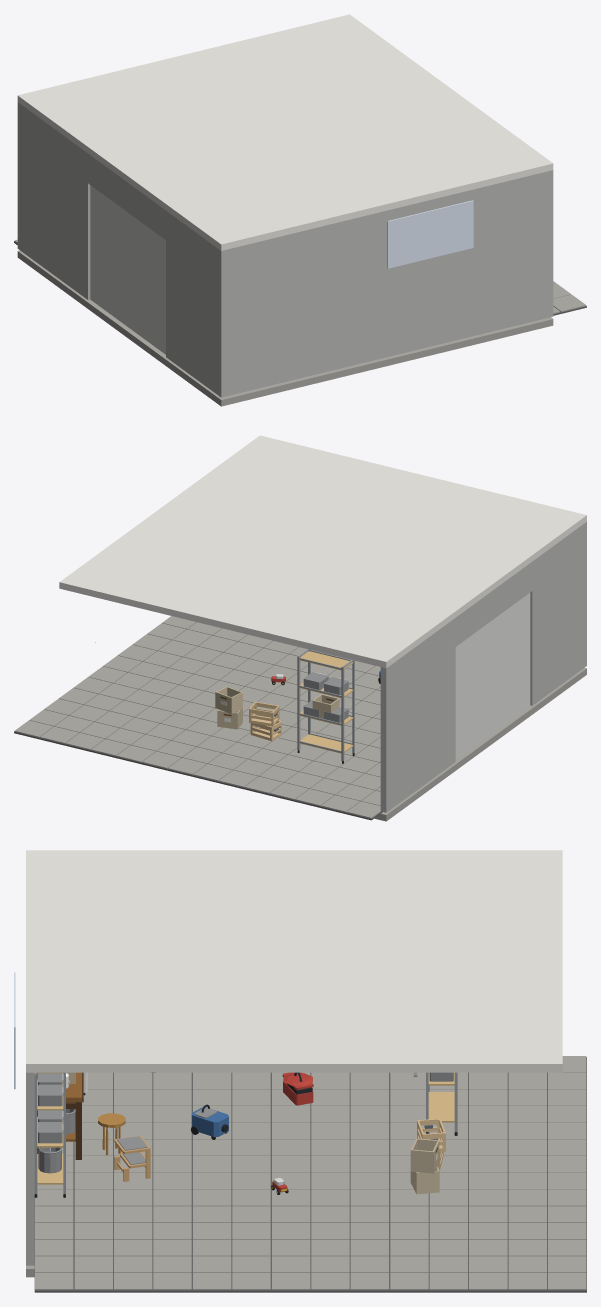
Rendered from SM_LPI_Room_Garage.fbx.
3 views of the same model, one above another, from view 1: azimuth 30°, elevation 25°; view 2: azimuth 150°, elevation 25°; view 3: azimuth 270°, elevation 25° (orthographic). The views are drawn at different scales.
Visible parts, largest first — view 1: SM_LPI_Room_Garage, SM_LPI_Room_GarageDoor, SM_LPI_Room_GarageGlass, SM_LPI_Struct_Floor_08.043; view 2: SM_LPI_Room_Garage, SM_LPI_Room_GarageDoor, SM_LPI_Util_ShelfRack_01.002, SM_LPI_Struct_Floor_08.028, SM_LPI_Struct_Floor_08.035, SM_LPI_Struct_Floor_08.014, SM_LPI_Struct_Floor_08.021, SM_LPI_Struct_Floor_08.042, SM_LPI_Struct_Floor_08.049, SM_LPI_Struct_Floor_08.039, SM_LPI_Struct_Floor_08.041, SM_LPI_Struct_Floor_08.045 (+24 smaller); view 3: SM_LPI_Room_Garage, SM_LPI_Util_ShelfRack_01.001, SM_LPI_Struct_Floor_08.043, SM_LPI_Struct_Floor_08.044, SM_LPI_Struct_Floor_08.045, SM_LPI_Struct_Floor_08.046, SM_LPI_Struct_Floor_08.047, SM_LPI_Struct_Floor_08.048, SM_LPI_Struct_Floor_08.049, SM_LPI_Struct_Floor_08.024, SM_LPI_Struct_Floor_08.018, SM_LPI_Struct_Floor_08.030 (+48 smaller).
Part boxes in pixels (x1,y1,x2,y2): SM_LPI_Room_Garage: (17,14,553,406); SM_LPI_Room_GarageDoor: (90,185,165,354); SM_LPI_Room_GarageGlass: (387,200,473,268); SM_LPI_Struct_Floor_08.043: (553,283,586,315); SM_LPI_Room_Garage: (59,435,586,821); SM_LPI_Room_GarageDoor: (455,593,530,759); SM_LPI_Util_ShelfRack_01.002: (297,649,354,763); SM_LPI_Struct_Floor_08.028: (167,747,247,782); SM_LPI_Struct_Floor_08.035: (116,734,195,770); SM_LPI_Struct_Floor_08.014: (269,772,349,807); SM_LPI_Struct_Floor_08.021: (218,759,298,795); SM_LPI_Struct_Floor_08.042: (65,722,144,757); SM_LPI_Struct_Floor_08.049: (14,709,93,745); SM_LPI_Struct_Floor_08.039: (154,657,233,691); SM_LPI_Struct_Floor_08.041: (95,700,174,734); SM_LPI_Struct_Floor_08.045: (132,623,211,657); SM_LPI_Room_Garage: (26,850,562,1277); SM_LPI_Util_ShelfRack_01.001: (34,1072,65,1197); SM_LPI_Struct_Floor_08.043: (34,1256,113,1292); SM_LPI_Struct_Floor_08.044: (113,1256,192,1292); SM_LPI_Struct_Floor_08.045: (192,1256,271,1292); SM_LPI_Struct_Floor_08.046: (271,1256,350,1292); SM_LPI_Struct_Floor_08.047: (350,1256,428,1292); SM_LPI_Struct_Floor_08.048: (429,1256,507,1292); SM_LPI_Struct_Floor_08.049: (508,1256,586,1292); SM_LPI_Struct_Floor_08.024: (192,1156,271,1190); SM_LPI_Struct_Floor_08.018: (271,1122,350,1157); SM_LPI_Struct_Floor_08.030: (113,1189,192,1223).
Bounding box in the file's own units: 7.11 × 2.98 × 7.26.
